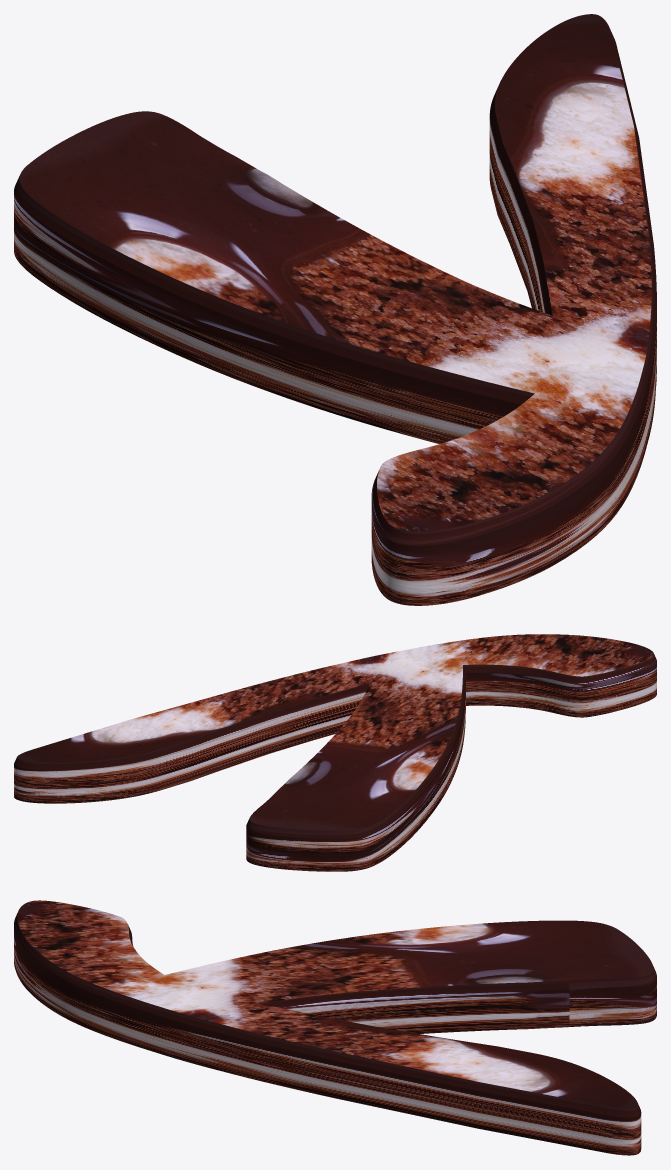
File: myY.FBX
The picture shows the model from 3 angles, top to bottom: view 1: azimuth 30°, elevation 25°; view 2: azimuth 150°, elevation 25°; view 3: azimuth 270°, elevation 25°; orthographic projection. The views are drawn at different scales.
Visible parts, largest first — view 1: myB; view 2: myB; view 3: myB.
Boxes of the visible parts, x1,y1,x2,y2 form: myB: (14,14,656,605); myB: (14,634,656,871); myB: (14,900,656,1155).
Bounding box in the file's own units: 60 × 6 × 77.2.
Materials: 1 (1 with a texture image).
